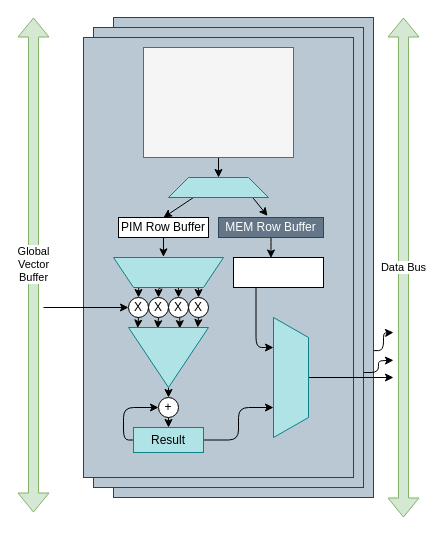
Some shapes in this 443 by 535 pixel diagram are drawn without their labels. The shapes that lost their labels are listed below. From the top down, each one's centre as x and y in pixels, then its label:
point (218, 102): Memory Cell Array
point (168, 272): Column Mux
point (278, 272): Column Decoder
point (168, 357): Add Tree
